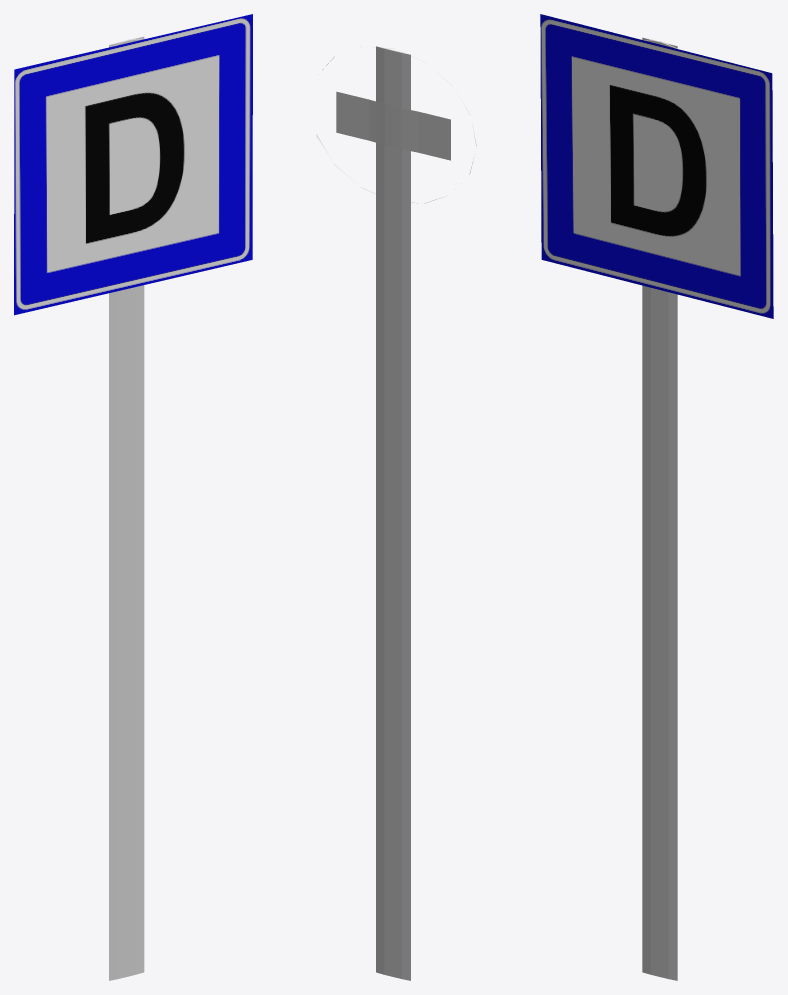
Rendered from durak.dae.
The picture shows the model from 3 angles, left to right: view 1: azimuth 30°, elevation 25°; view 2: azimuth 150°, elevation 25°; view 3: azimuth 330°, elevation 25°; orthographic projection.
Parts seen in each view (by area): view 1: Plane, Sign_Circle.005; view 2: Sign_Circle.005; view 3: Plane, Sign_Circle.005.
Part boxes in pixels (left/top/right/bottom): Plane: left=14, top=14, right=252, bottom=315; Sign_Circle.005: left=109, top=36, right=145, bottom=980; Sign_Circle.005: left=316, top=46, right=476, bottom=980; Plane: left=540, top=14, right=773, bottom=318; Sign_Circle.005: left=642, top=37, right=678, bottom=980.
Size of the model in its own units: 0.5948 by 0.032 by 2.26.
3 materials, 1 textured.
